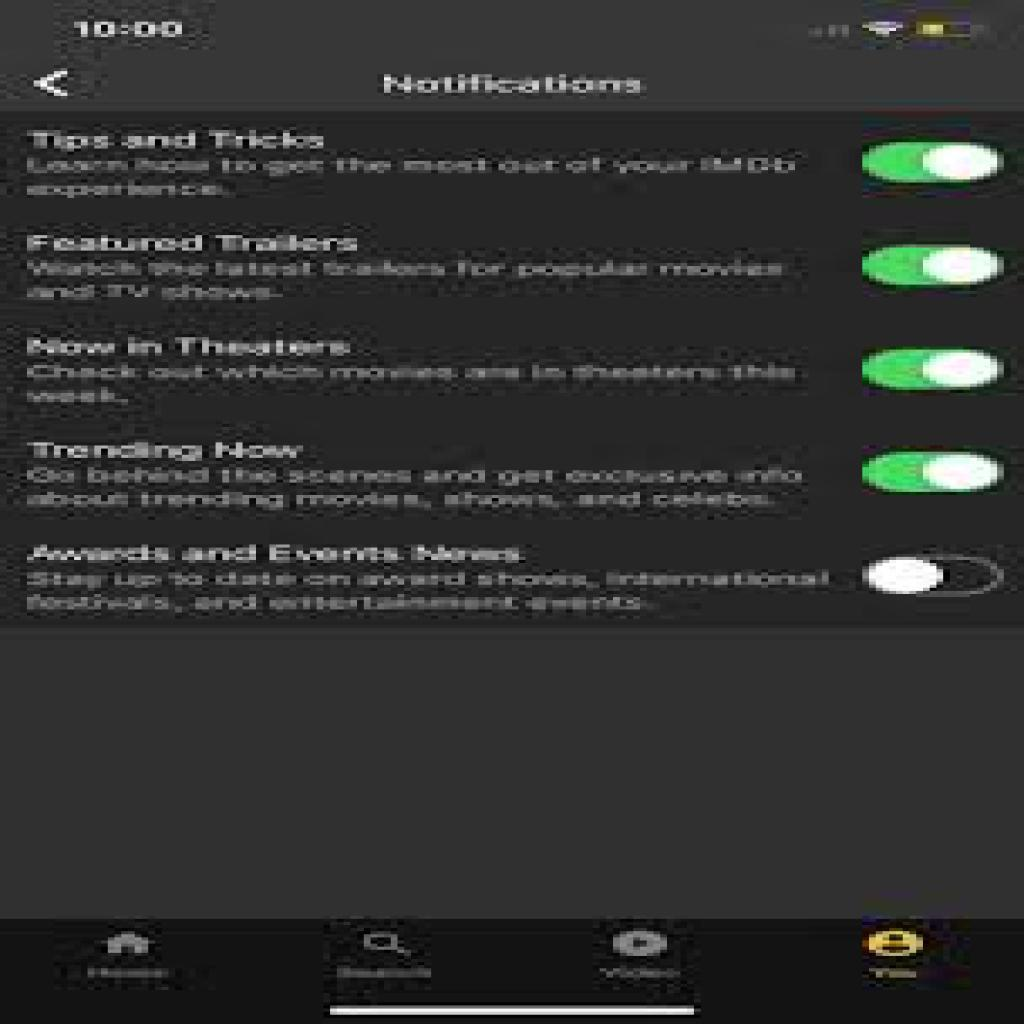switch: (846, 237, 1022, 295), (846, 548, 1018, 604), (855, 445, 1015, 500), (856, 338, 1007, 391), (854, 142, 1018, 190)
